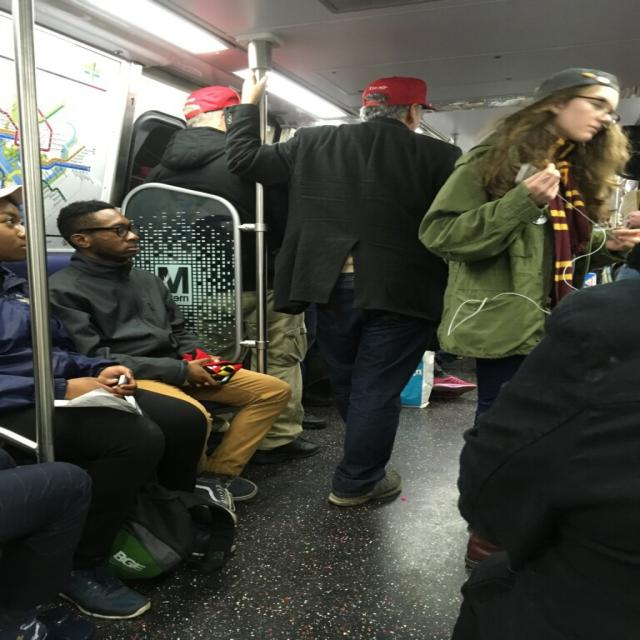body: (217, 61, 479, 514), (413, 60, 639, 572), (0, 175, 248, 573), (45, 197, 296, 532), (447, 276, 639, 640), (142, 81, 323, 462), (0, 446, 178, 640), (588, 109, 639, 277), (419, 347, 480, 403)
